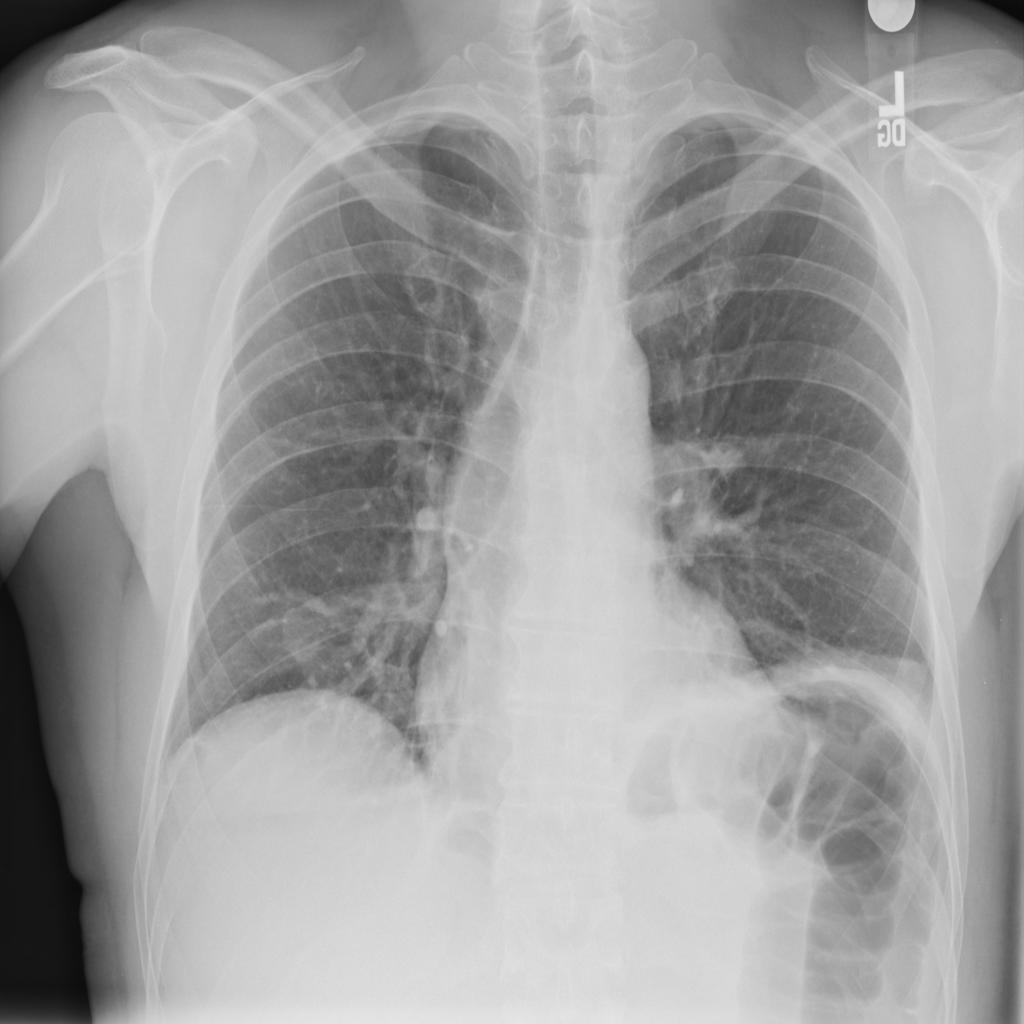nodule: (271, 591, 339, 677)
